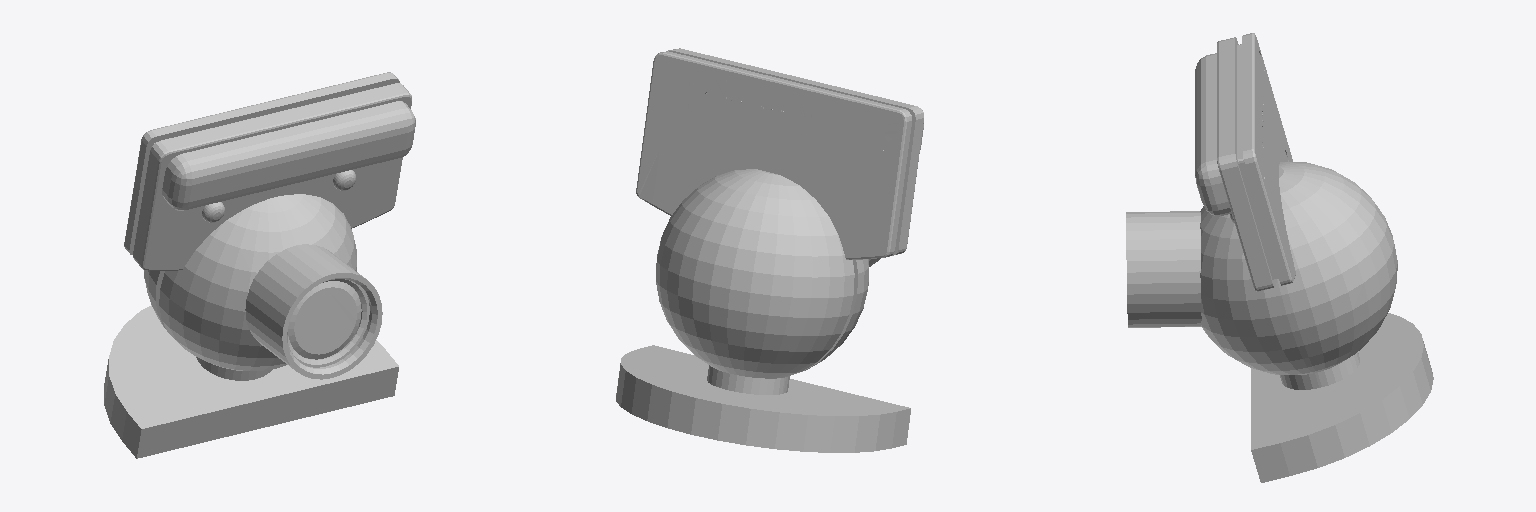
The model's file is PS3EyeCamera.obj.
3 views of the same model, side by side, from view 1: azimuth 30°, elevation 25°; view 2: azimuth 150°, elevation 25°; view 3: azimuth 270°, elevation 25° (orthographic).
Parts seen in each view (by area): view 1: Hi_Poly_EYE; view 2: Hi_Poly_EYE; view 3: Hi_Poly_EYE.
Part boxes in pixels (x1,y1,x2,y2): Hi_Poly_EYE: (104,72,415,458); Hi_Poly_EYE: (616,48,923,452); Hi_Poly_EYE: (1126,33,1433,482).
Bounding box in the file's own units: 5 × 6.09 × 5.17.